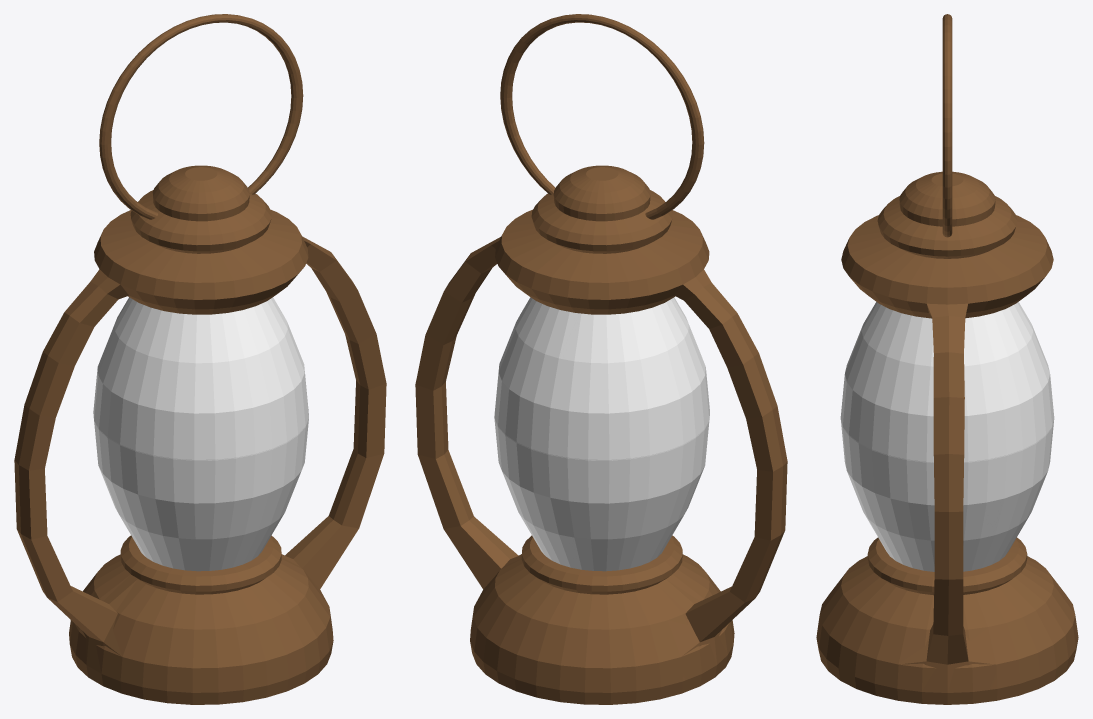
The model's file is Lamp.fbx.
3 renders of one model, left to right at view 1: azimuth 30°, elevation 25°; view 2: azimuth 150°, elevation 25°; view 3: azimuth 270°, elevation 25°, orthographic.
Visible parts, largest first — view 1: Cylinder, Cylinder.001, Torus; view 2: Cylinder, Cylinder.001, Torus; view 3: Cylinder, Cylinder.001, Torus.
Boxes of the visible parts, x1,y1,x2,y2 form: Cylinder: (14, 165, 386, 704); Cylinder.001: (93, 297, 308, 571); Torus: (99, 14, 303, 219); Cylinder: (415, 165, 787, 704); Cylinder.001: (494, 297, 709, 571); Torus: (500, 14, 704, 219); Cylinder: (816, 171, 1078, 704); Cylinder.001: (840, 302, 1054, 571); Torus: (942, 14, 952, 237).
Bounding box in the file's own units: 81.38 × 129 × 214.
